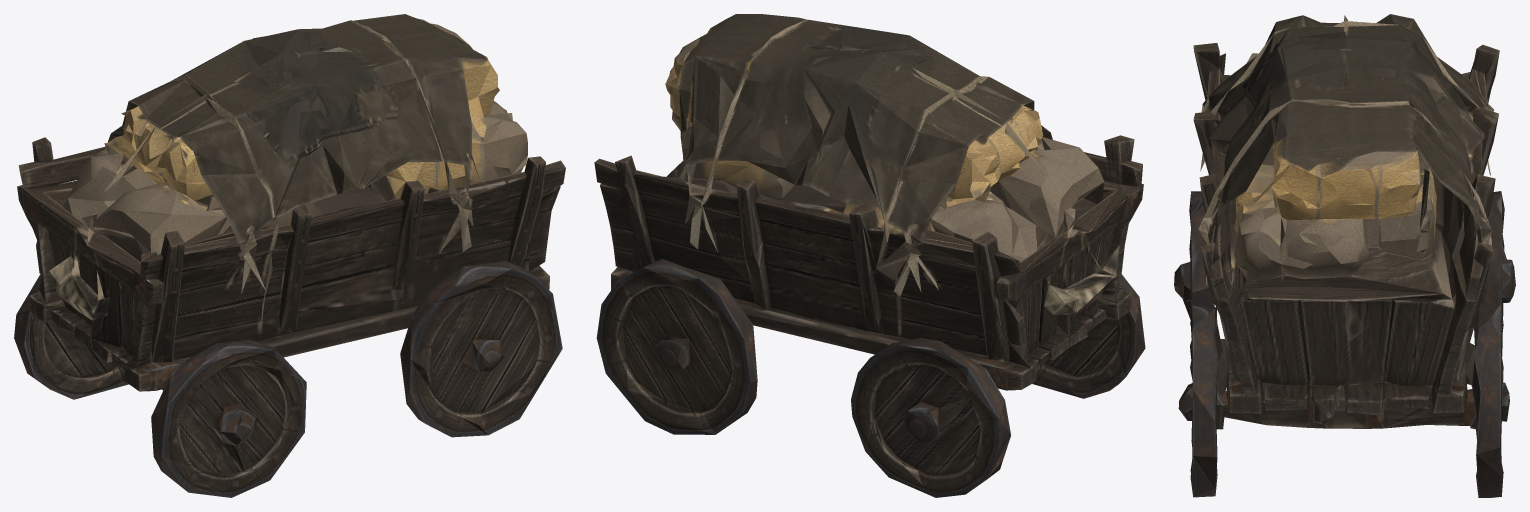
The model's file is hay_wagon.glb.
The picture shows the model from 3 angles, left to right: view 1: azimuth 30°, elevation 25°; view 2: azimuth 150°, elevation 25°; view 3: azimuth 270°, elevation 25°; orthographic projection. The views are drawn at different scales.
Visible parts, largest first — view 1: hay_wagon; view 2: hay_wagon; view 3: hay_wagon.
Boxes of the visible parts, x1,y1,x2,y2 form: hay_wagon: [14, 14, 565, 497]; hay_wagon: [594, 14, 1145, 497]; hay_wagon: [1174, 14, 1515, 497].
Size of the model in its own units: 3.47 by 2.6 by 2.11.
1 material, 1 textured.
